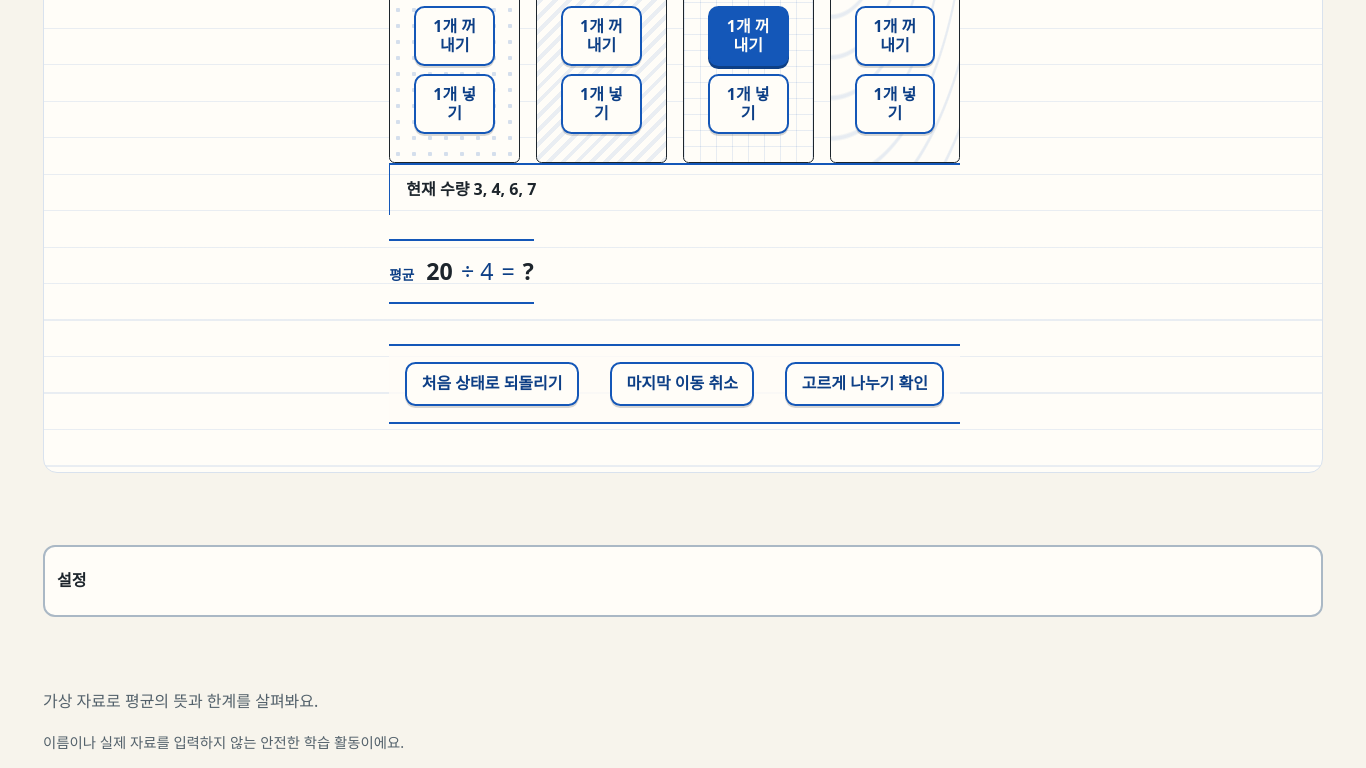
learning router › keeps the learner in redistribution after resetting the live simulation
(page scrolled)
What coordinates should you click on to do the following:
click the button "처음 상태로 되돌리기"
I would click on:
 (492, 384)
Its box is [405,362,579,406].
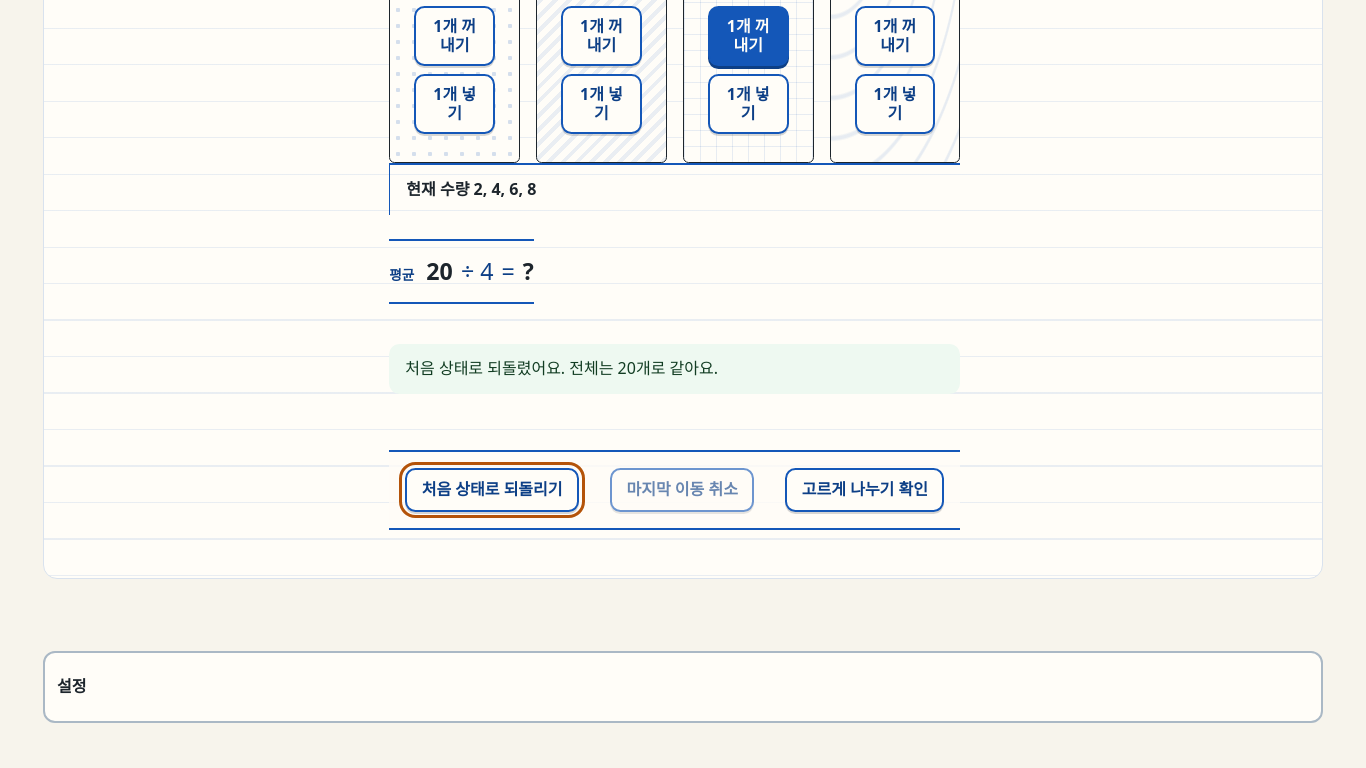
Expected: the button "고르게 나누기 확인" is shown, [786,468,944,512]
Expected: the text "현재 수량 2, 4, 6, 8" is shown, [389,163,960,215]
